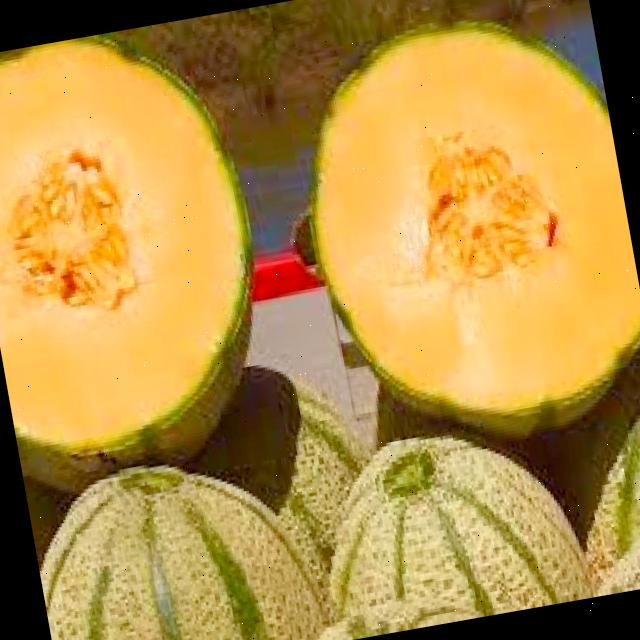Hami Melon: (287, 0, 640, 463), (0, 14, 288, 498), (301, 408, 594, 640), (25, 439, 328, 640)
